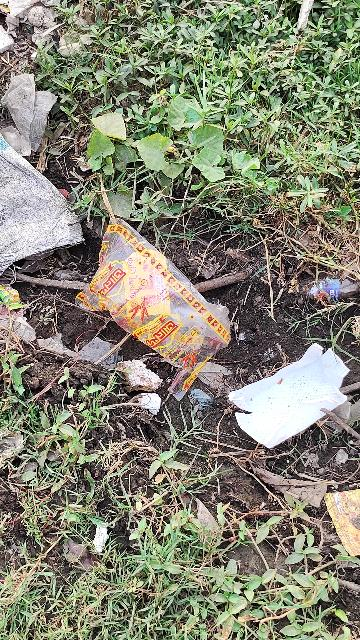polythene: (47, 192, 248, 375)
